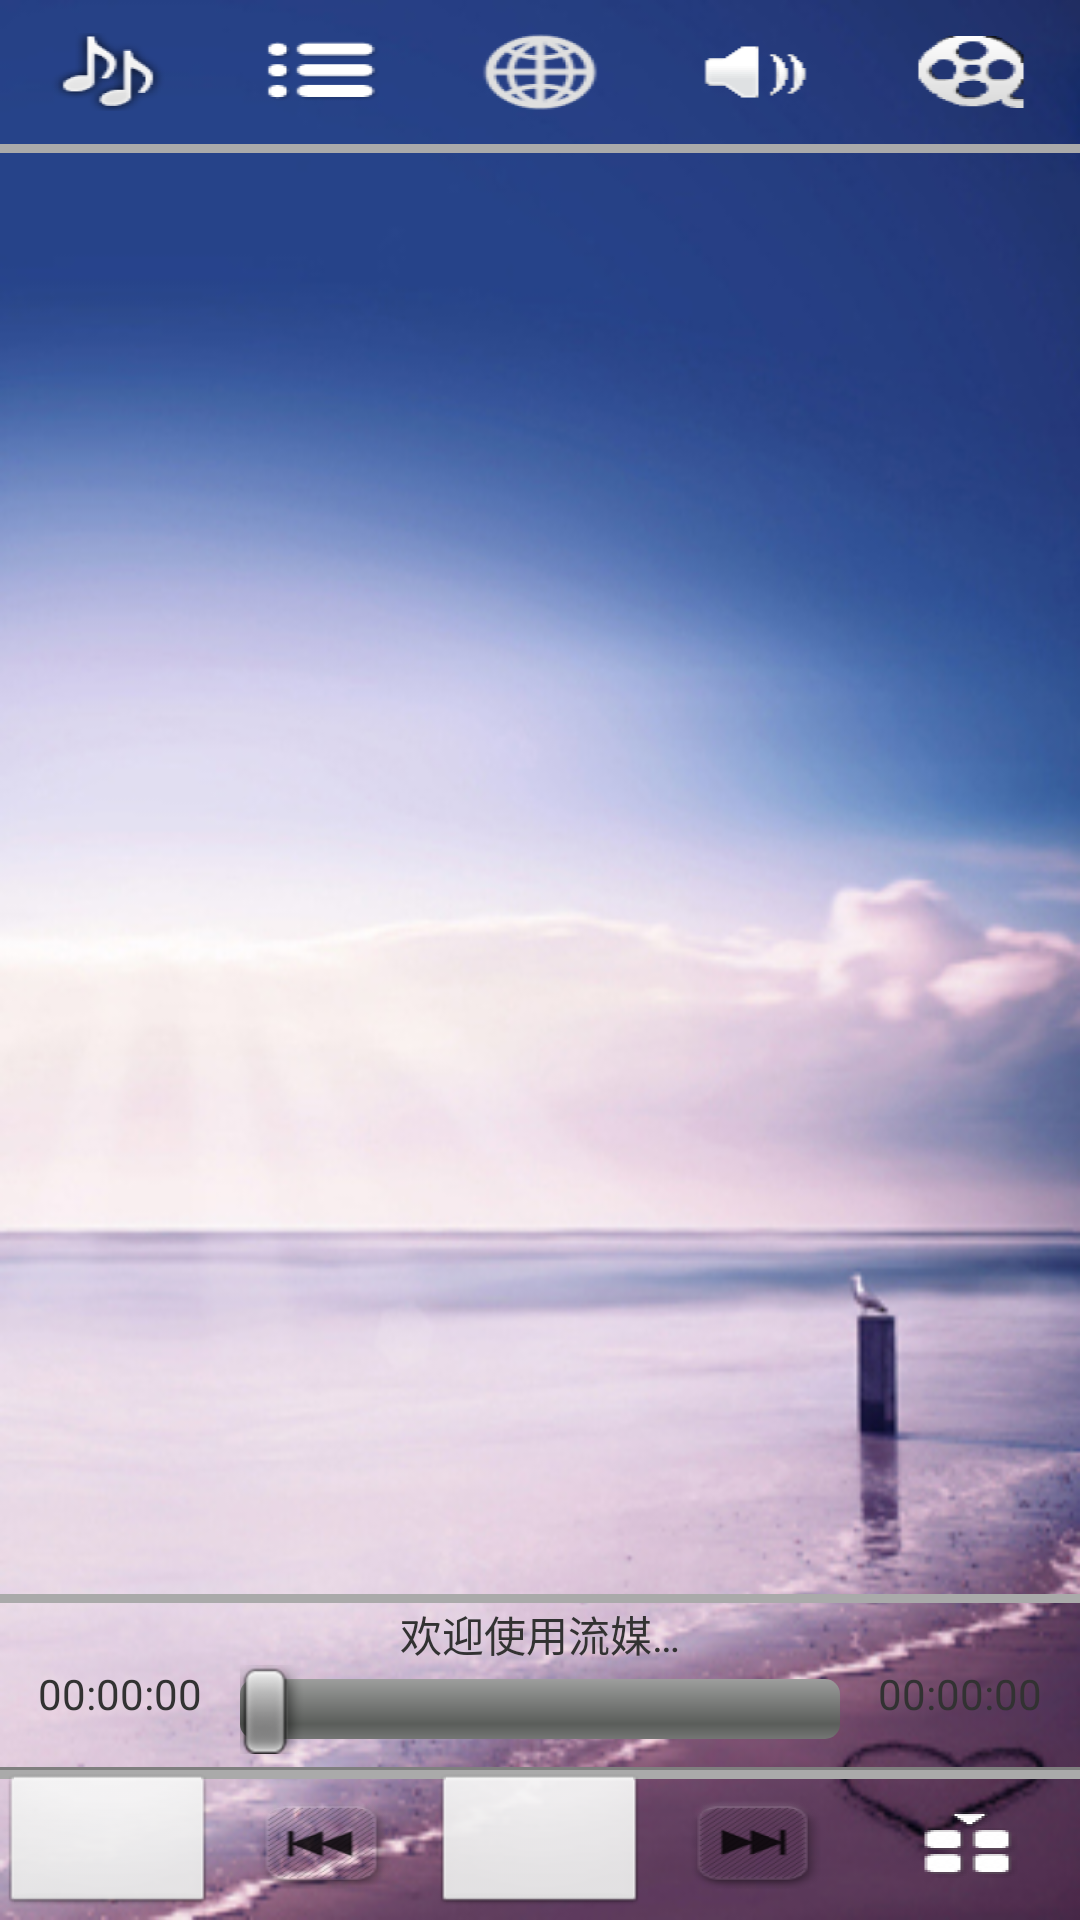

Screen size 1080*1920. Icon name, then its center in pixels as [x,y]:
list: [321,70]
music: [108,72]
online: [540,72]
video: [971,72]
voice: [755,72]
